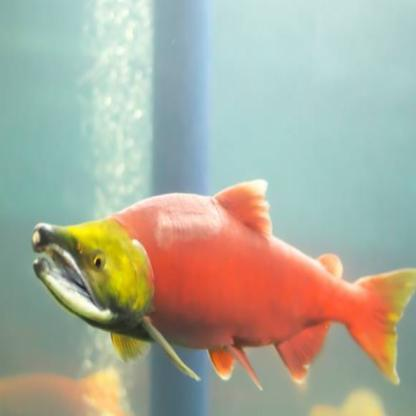sockeye: (30, 167, 396, 374)
